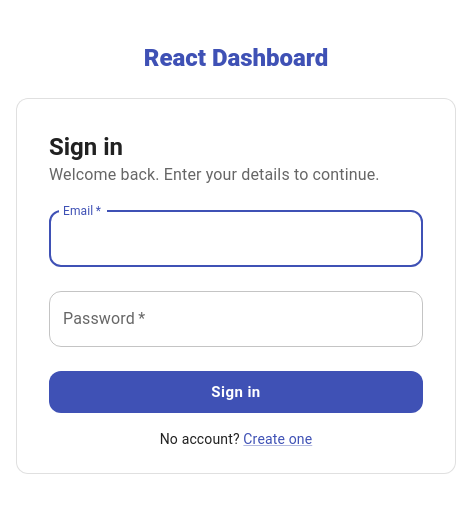
Test case: App (integration) › shows an inline error for wrong credentials
Type "ada@example.com" into the field labelled "Email *". click: point(236, 239)
box: [49,211,423,267]
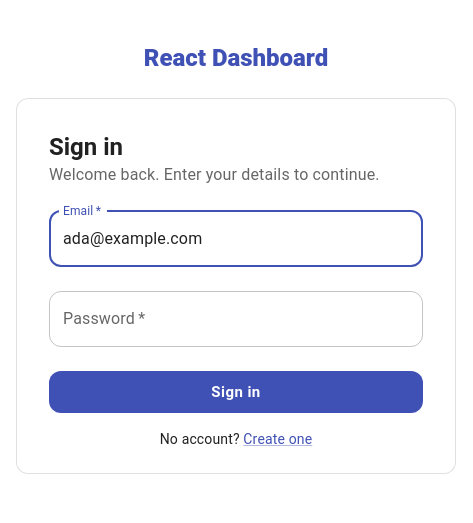
Type "wrong" into the password field labelled "Password *". click: point(236, 319)
box: [49,291,423,347]
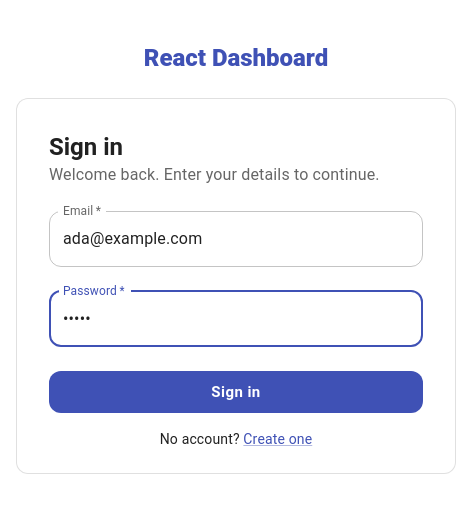
Click the button "Sign in". click: point(236, 392)
box: [49,371,423,413]
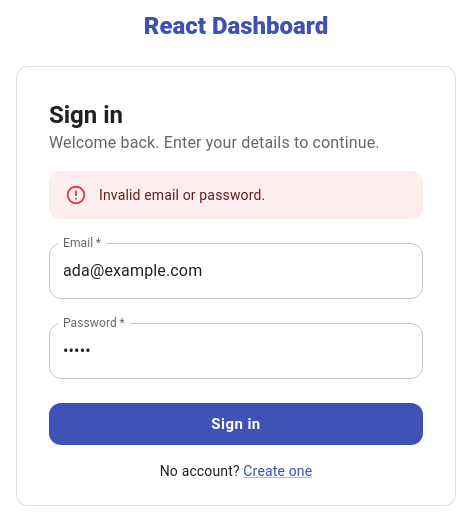
Expected: the text "Invalid email or password." is shown, [99,187,265,203]
